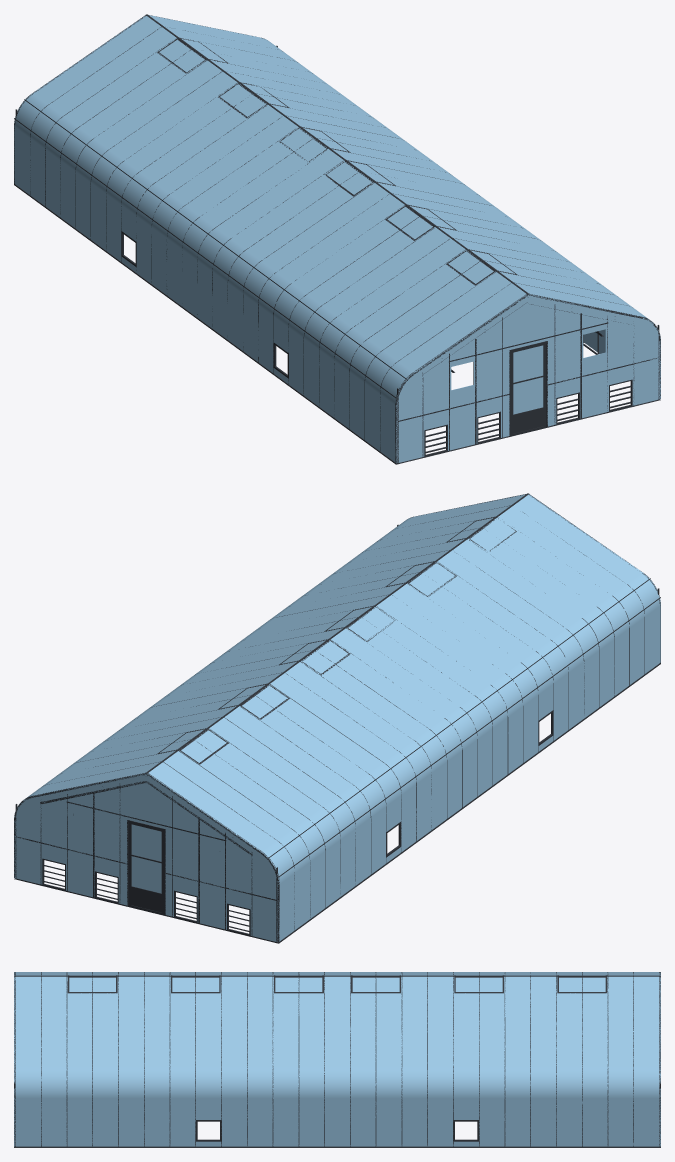
File: greenhouse_web.glb
3 views of the same model, one above another, from view 1: azimuth 30°, elevation 25°; view 2: azimuth 150°, elevation 25°; view 3: azimuth 270°, elevation 25° (orthographic). The views are drawn at different scales.
Visible parts, largest first — view 1: glazing, frame; view 2: glazing, frame; view 3: glazing, frame.
Boxes of the visible parts, left/top/right/bottom form: glazing: left=14, top=15, right=660, bottom=462; frame: left=14, top=14, right=660, bottom=464; glazing: left=14, top=494, right=660, bottom=941; frame: left=14, top=493, right=660, bottom=943; glazing: left=14, top=972, right=660, bottom=1146; frame: left=14, top=972, right=660, bottom=1147.
Bounding box in the file's own units: 6255 × 3121 × 15627.
